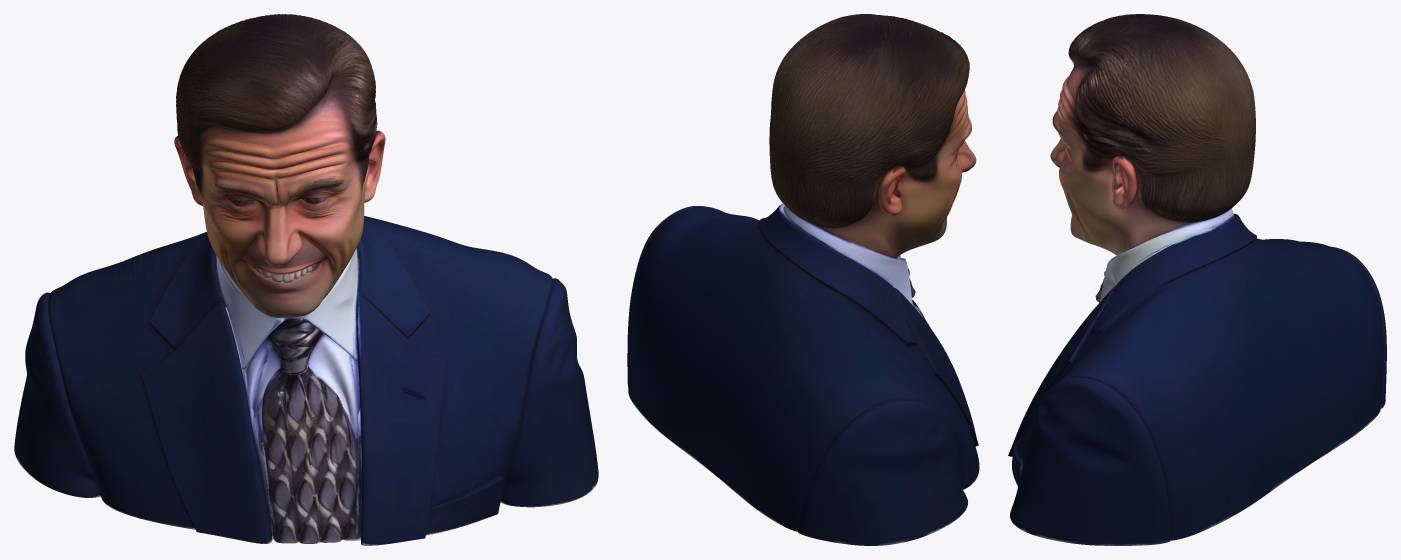
The model's file is ms_body.glb.
The picture shows the model from 3 angles, left to right: view 1: azimuth 30°, elevation 25°; view 2: azimuth 150°, elevation 25°; view 3: azimuth 270°, elevation 25°; orthographic projection. The views are drawn at different scales.
Visible parts, largest first — view 1: node_0; view 2: node_0; view 3: node_0.
Boxes of the visible parts, x1,y1,x2,y2 form: node_0: (14, 14, 598, 545); node_0: (627, 14, 979, 545); node_0: (1008, 14, 1386, 545).
Bounding box in the file's own units: 0.7873 × 0.7854 × 0.6702.
1 material, 1 textured.
